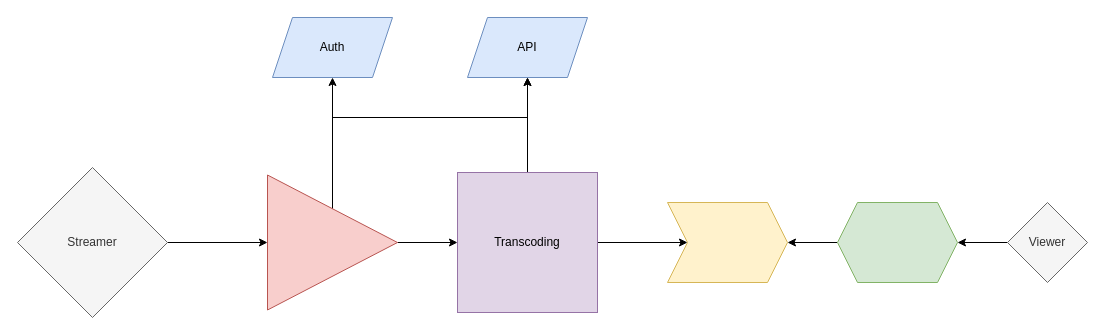
Some shapes in this 1105 by 335 pixel diagram are drawn without their labels. Here are the shapes that lost their labels. From the top down, the centre of each, then its label:
(x=332, y=242): Ingest
(x=727, y=242): Edge
(x=897, y=242): Website
